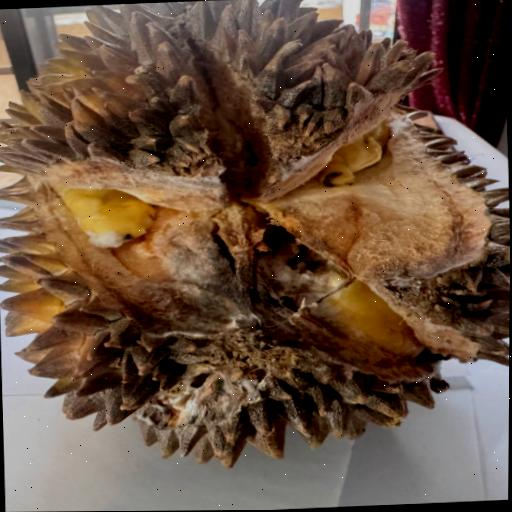mold: (55, 120, 373, 452)
rot: (0, 0, 512, 471)
